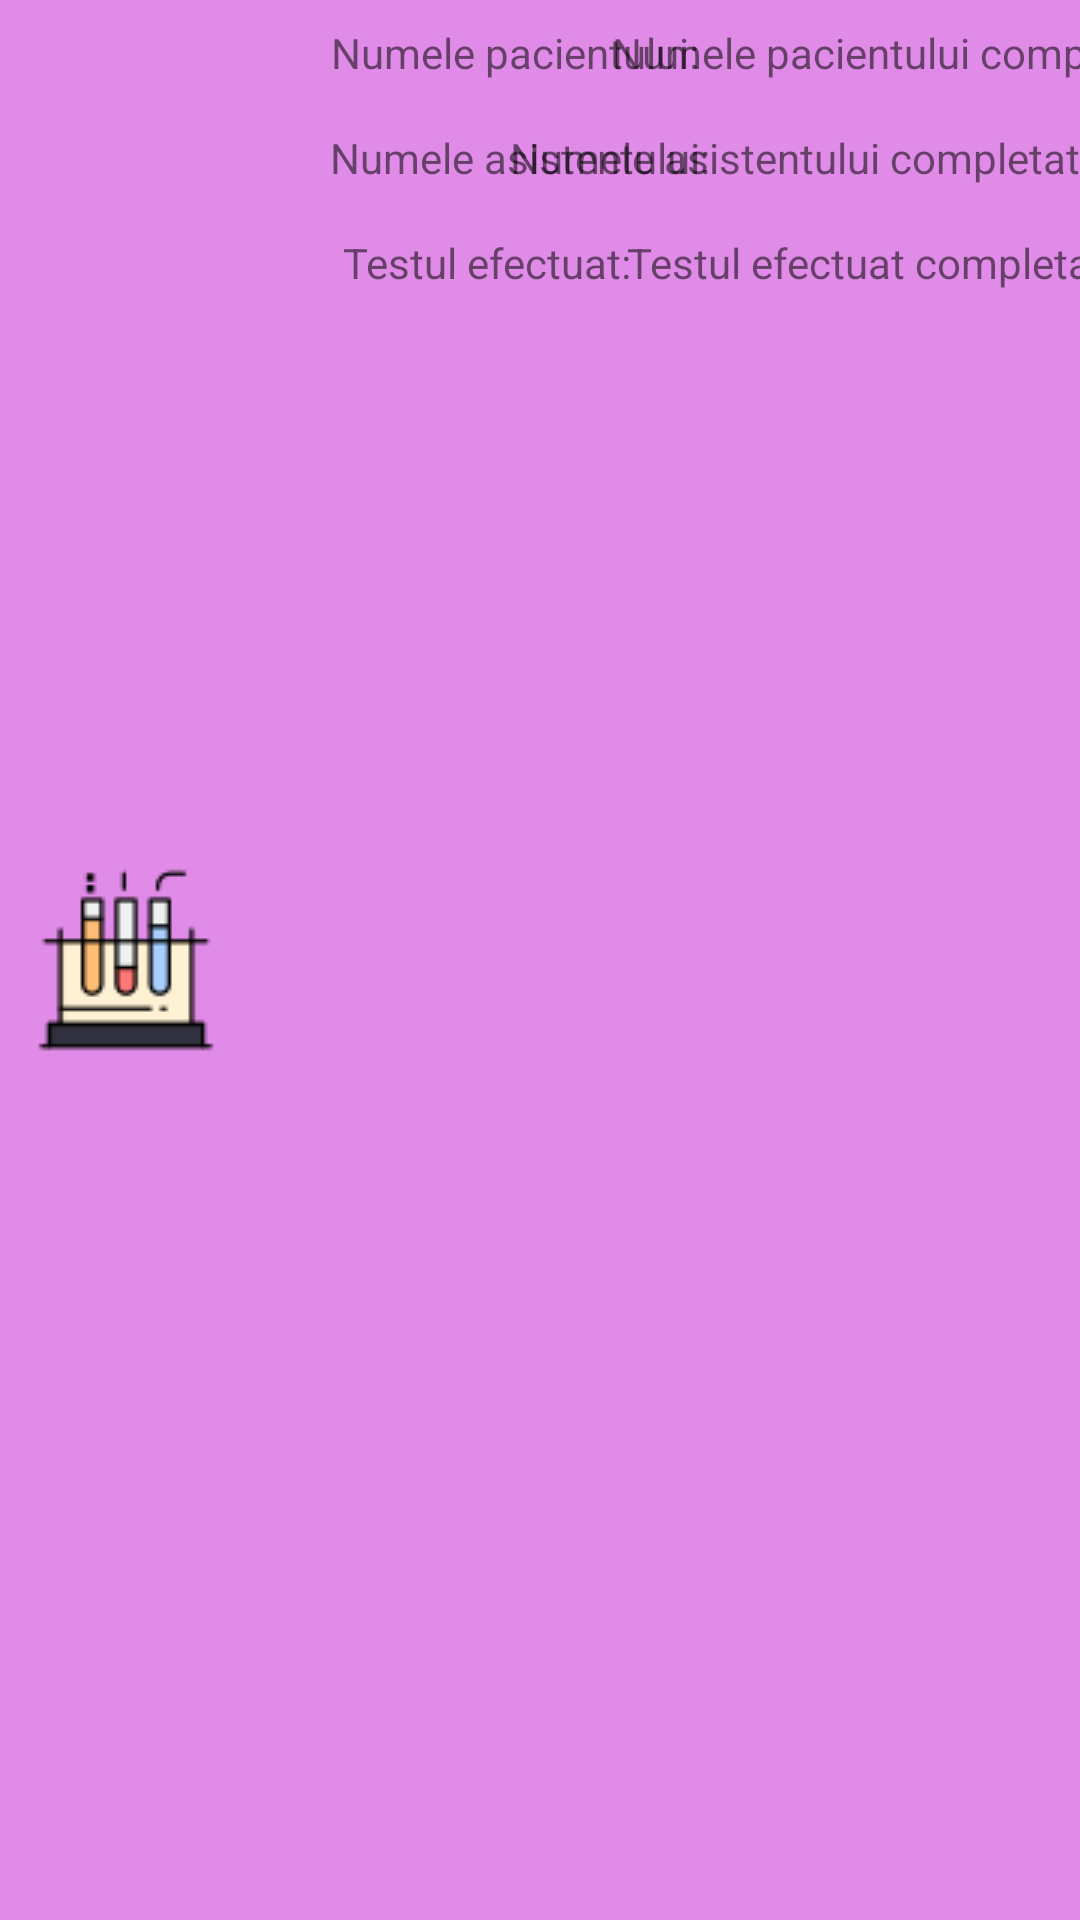

Where to tap for icons on this 1080 x 1920 app screen, as point (x, y):
Analize: point (126, 960)
